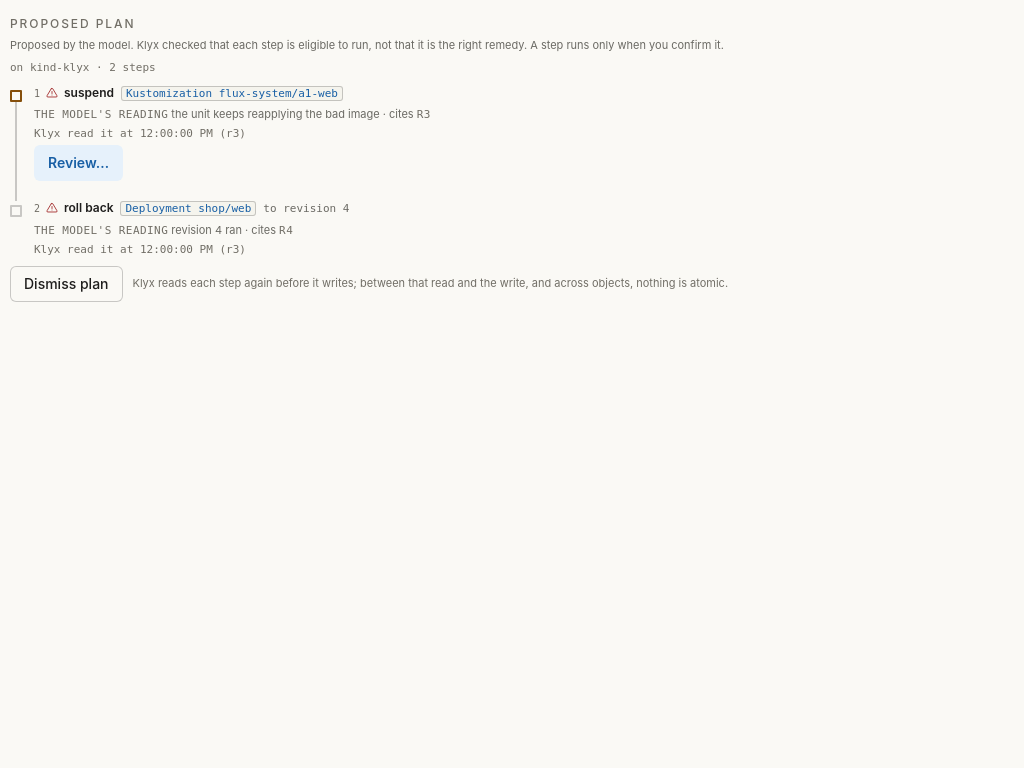
Test: ActionCard › keeps the step offered on Cancel
What coordinates should you click on to do the following:
click the button with test id "act-review"
I would click on:
 (78, 163)
Its box is [34,145,123,181].
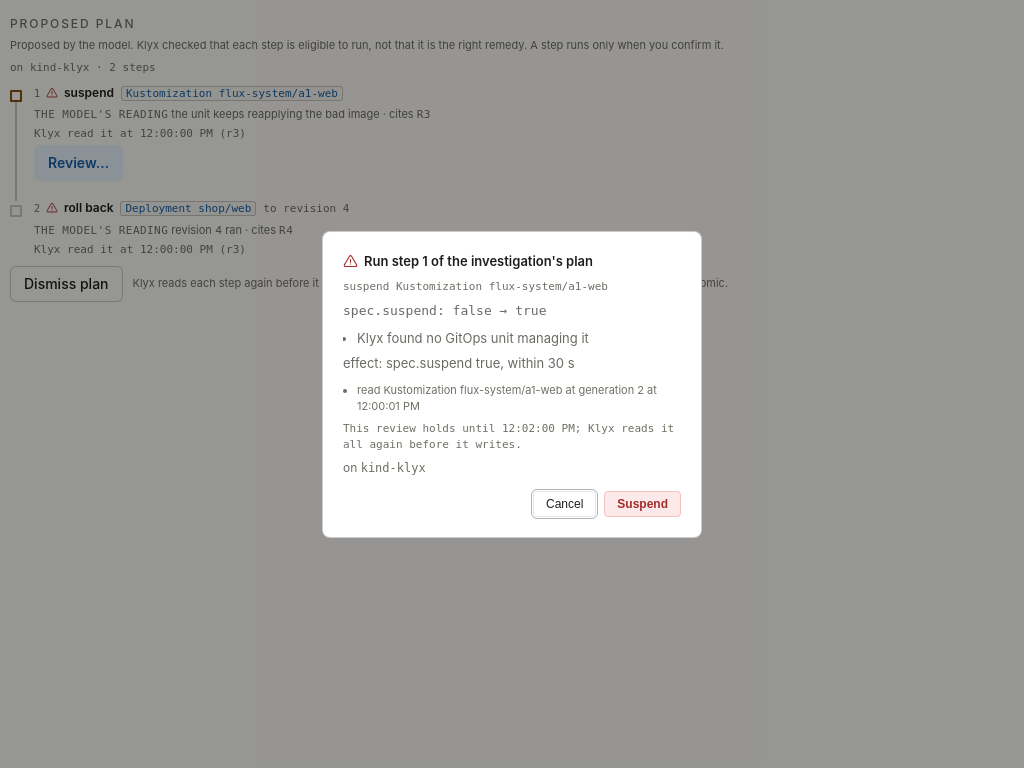
Check: the dialog is shown, box [322,230,702,538]
What coordinates should you click on to do the following:
click the button "Cancel"
I would click on:
 (565, 504)
Its box is [533,490,596,516].
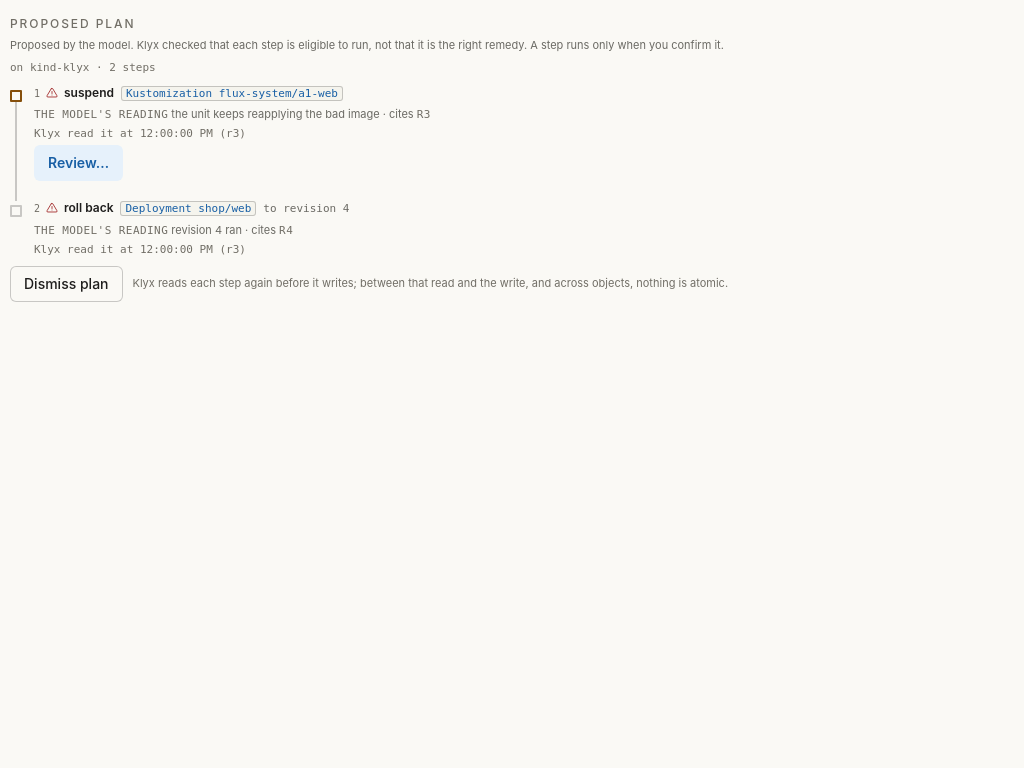
Check: the button with test id "act-review" is shown, box [34,145,123,181]
Check: the dialog is gone
